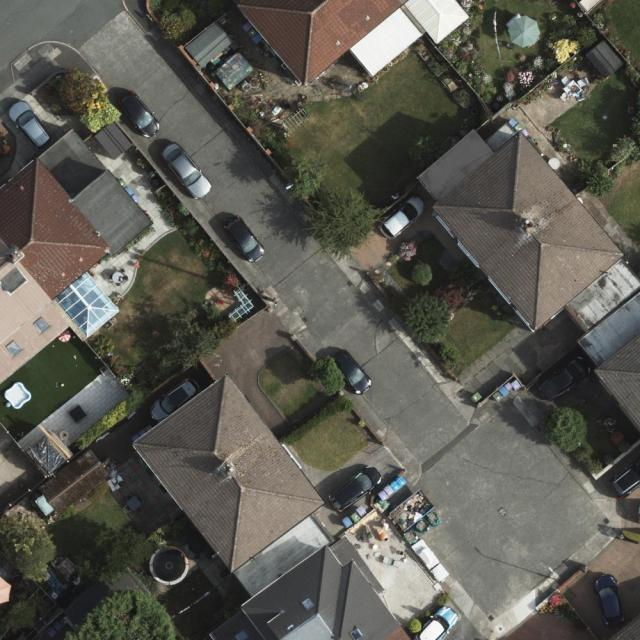roof: (131, 371, 414, 640), (418, 118, 640, 430), (0, 128, 157, 388), (234, 0, 472, 86)
skylight: (55, 271, 120, 337), (5, 337, 24, 358), (298, 594, 318, 613), (33, 316, 53, 334), (349, 626, 366, 640), (236, 629, 249, 639)
